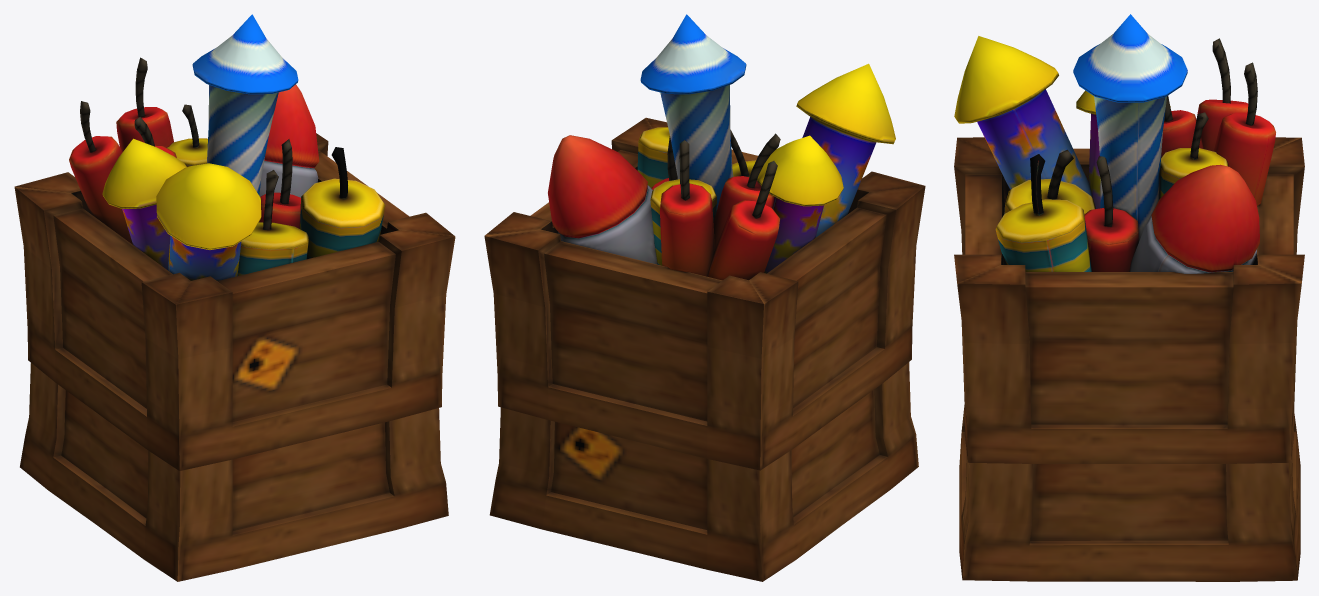
File: Cube_FireworksCrate.FBX
3 renders of one model, left to right at view 1: azimuth 30°, elevation 25°; view 2: azimuth 150°, elevation 25°; view 3: azimuth 270°, elevation 25°, orthographic. The views are drawn at different scales.
Visible parts, largest first — view 1: Crate; view 2: Crate; view 3: Crate.
Part boxes in pixels (box(x1,y1,x2,y2)): Crate: box(14, 14, 455, 581); Crate: box(484, 14, 925, 581); Crate: box(954, 14, 1304, 581).
Bounding box in the file's own units: 1565 × 2484 × 1565.
